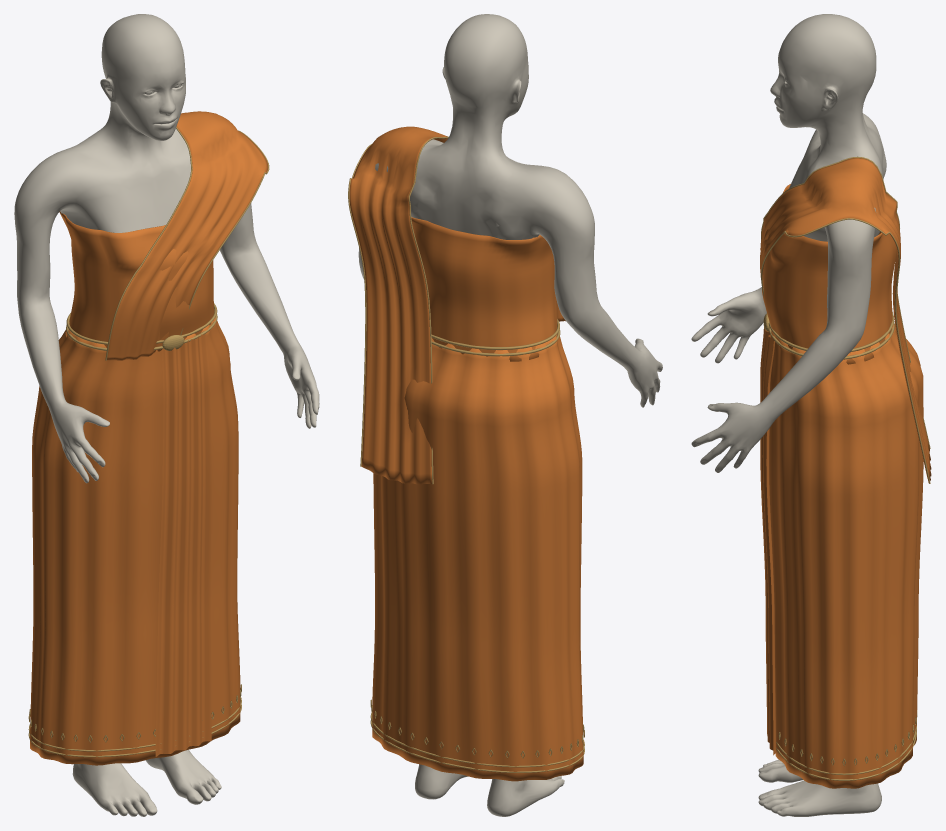
The model's file is fashion-day-v1-ultra.glb.
3 renders of one model, left to right at view 1: azimuth 30°, elevation 25°; view 2: azimuth 150°, elevation 25°; view 3: azimuth 270°, elevation 25°, orthographic.
Parts seen in each view (by area): view 1: day-fabric.001, mannequin-ivory.001, antique-gold.001; view 2: day-fabric.001, mannequin-ivory.001, antique-gold.001; view 3: day-fabric.001, mannequin-ivory.001, antique-gold.001.
Boxes of the visible parts, left/top/right/bottom form: day-fabric.001: left=30, top=111, right=268, bottom=765; mannequin-ivory.001: left=14, top=14, right=319, bottom=816; antique-gold.001: left=28, top=127, right=269, bottom=757; day-fabric.001: left=349, top=126, right=583, bottom=781; mannequin-ivory.001: left=358, top=14, right=662, bottom=816; antique-gold.001: left=348, top=136, right=584, bottom=772; day-fabric.001: left=760, top=158, right=931, bottom=788; mannequin-ivory.001: left=691, top=14, right=886, bottom=816; antique-gold.001: left=761, top=156, right=930, bottom=780.
Bounding box in the file's own units: 0.5927 × 1.75 × 0.4908.
